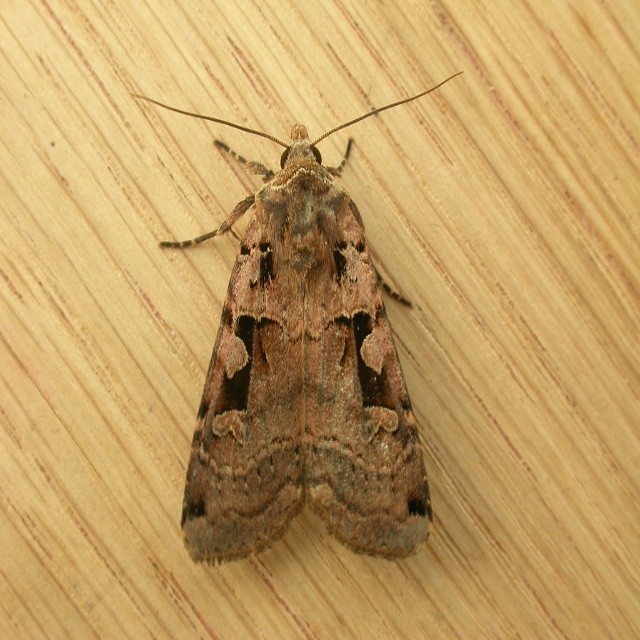Moths and butterflies: (129, 68, 467, 569)
